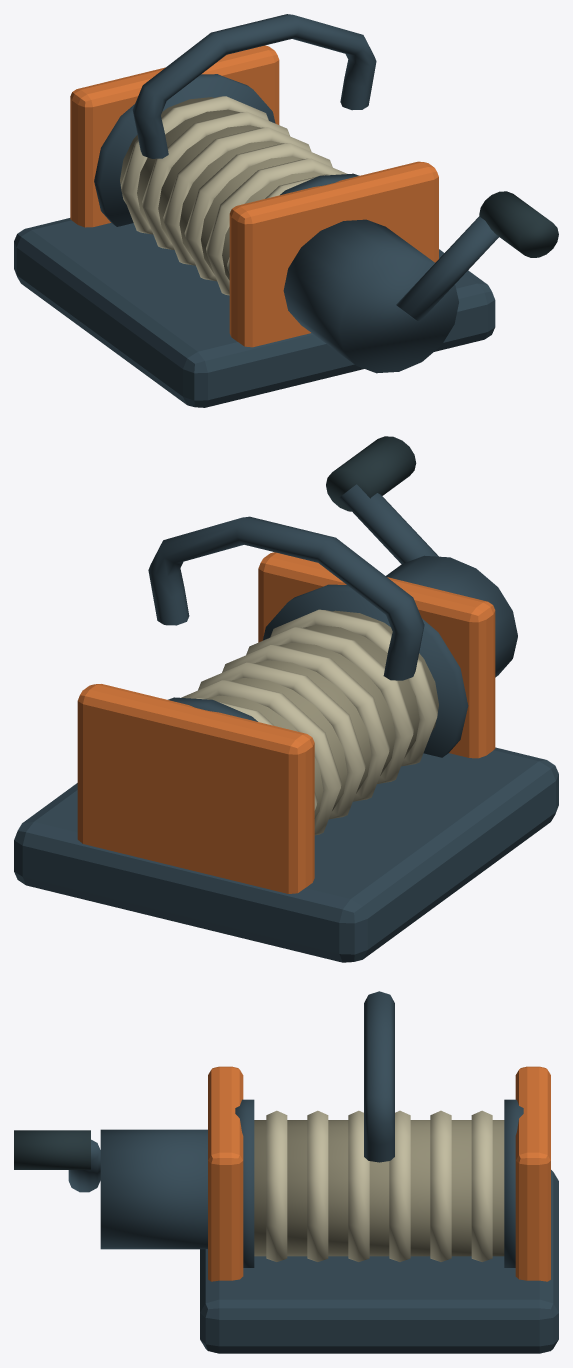
File: winch.glb
3 views of the same model, one above another, from view 1: azimuth 30°, elevation 25°; view 2: azimuth 150°, elevation 25°; view 3: azimuth 270°, elevation 25° (orthographic). The views are drawn at different scales.
Parts seen in each view (by area): view 1: tyaga-winch-surface, drum-surface, winch-handle-surface; view 2: tyaga-winch-surface, drum-surface, winch-handle-surface; view 3: tyaga-winch-surface, drum-surface, winch-handle-surface.
Part boxes in pixels (x1,y1,x2,y2): tyaga-winch-surface: (14, 14, 495, 407); drum-surface: (94, 74, 359, 295); winch-handle-surface: (396, 191, 558, 321); tyaga-winch-surface: (14, 516, 558, 962); drum-surface: (168, 584, 468, 835); winch-handle-surface: (326, 436, 438, 564); tyaga-winch-surface: (100, 991, 558, 1353); drum-surface: (235, 1099, 523, 1267); winch-handle-surface: (14, 1130, 100, 1192).
Bounding box in the file's own units: 0.62 × 0.55 × 0.98.
